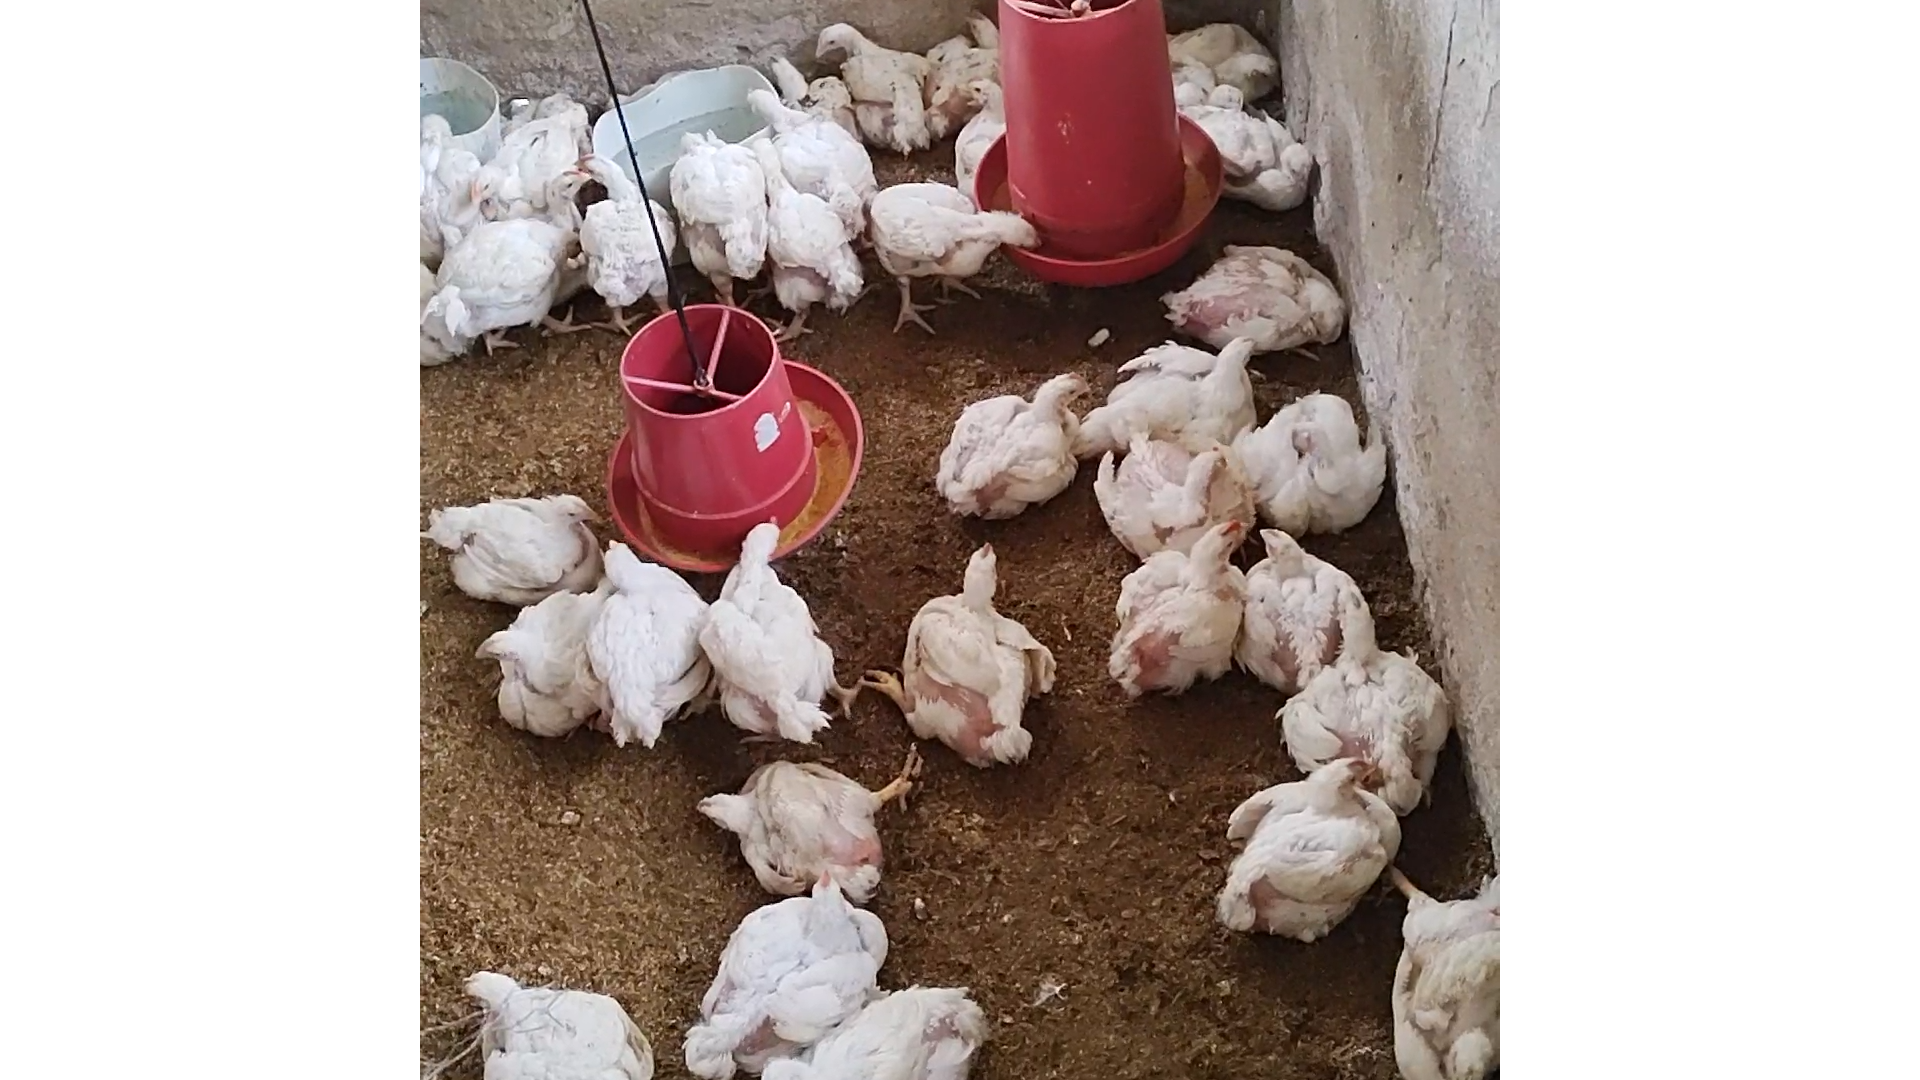Pollos: (680, 884, 887, 1072), (897, 542, 1062, 773), (1212, 748, 1404, 938), (702, 516, 862, 737), (691, 752, 915, 895), (1098, 516, 1257, 703), (735, 976, 1007, 1080), (434, 167, 593, 345), (1273, 649, 1445, 807), (931, 363, 1095, 522), (596, 531, 716, 748), (444, 959, 653, 1080), (1160, 247, 1356, 367), (1073, 334, 1266, 454), (1234, 386, 1393, 530), (1241, 524, 1382, 678), (1105, 427, 1255, 563), (748, 135, 857, 320), (872, 175, 1047, 290), (435, 483, 607, 597), (492, 589, 612, 752), (567, 152, 678, 320), (742, 83, 876, 222), (662, 128, 771, 287), (816, 16, 931, 161), (1178, 98, 1327, 206), (469, 107, 578, 225), (1174, 18, 1287, 99), (758, 37, 848, 131), (948, 69, 1005, 185)
